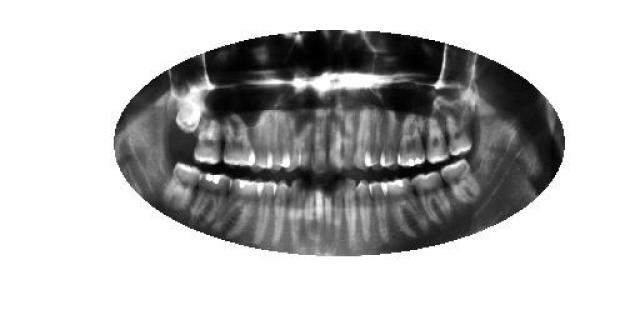Fillings: (214, 176, 261, 238), (190, 172, 231, 222), (397, 114, 428, 168)
